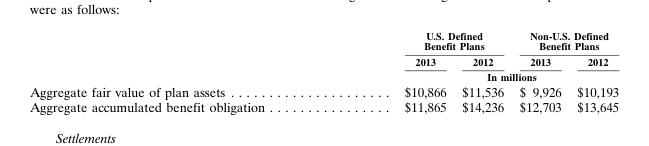table: (29, 29, 618, 114)
table column: (29, 29, 333, 114), (333, 29, 453, 114), (453, 29, 511, 114), (511, 29, 568, 114), (568, 29, 618, 114)
table column header: (29, 29, 618, 83)
table row: (29, 29, 618, 53), (29, 53, 618, 69), (29, 83, 618, 99), (29, 99, 618, 114), (29, 69, 618, 83)
table spanning cell: (333, 29, 511, 53), (333, 69, 618, 83), (511, 29, 618, 53)
